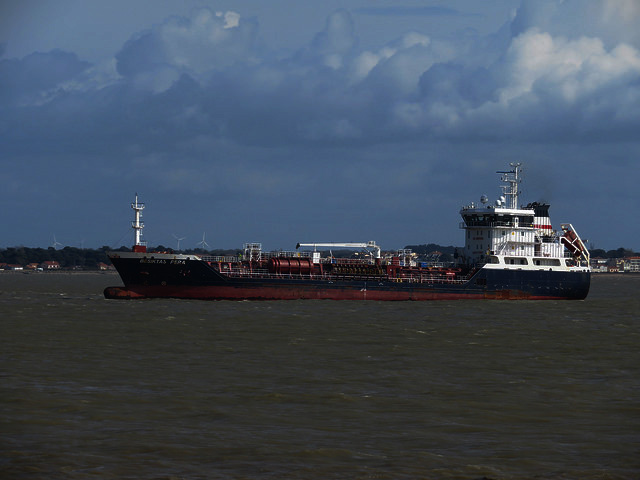tanker: (98, 193, 598, 299)
